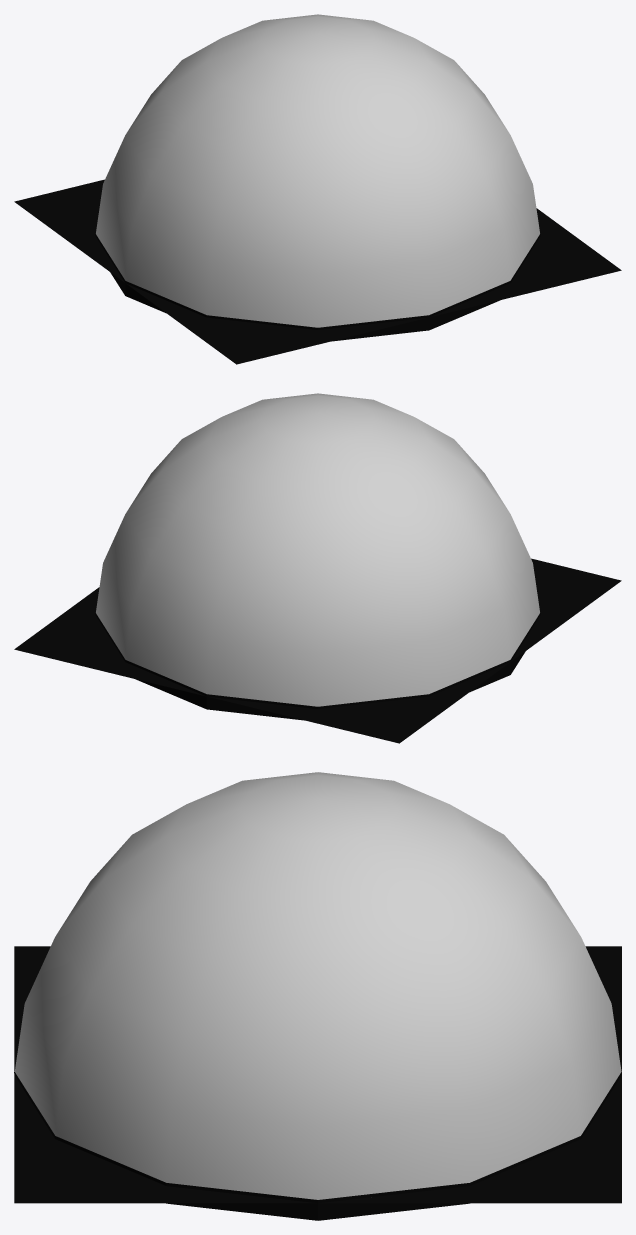
File: glass_dome_unlit_glass.dae
3 views of the same model, one above another, from view 1: azimuth 30°, elevation 25°; view 2: azimuth 150°, elevation 25°; view 3: azimuth 270°, elevation 25° (orthographic). The views are drawn at different scales.
Visible parts, largest first — view 1: polySurface3, polySurface4, polySurface5; view 2: polySurface3, polySurface4, polySurface5; view 3: polySurface3, polySurface4, polySurface5.
Boxes of the visible parts, x1=… form: polySurface3: x1=96, y1=14, x2=539, y2=327; polySurface4: x1=14, y1=179, x2=621, y2=364; polySurface5: x1=95, y1=233, x2=540, y2=341; polySurface3: x1=96, y1=393, x2=539, y2=706; polySurface4: x1=14, y1=558, x2=621, y2=743; polySurface5: x1=95, y1=612, x2=540, y2=720; polySurface3: x1=14, y1=772, x2=621, y2=1199; polySurface4: x1=14, y1=946, x2=621, y2=1203; polySurface5: x1=14, y1=1071, x2=621, y2=1220.
Size of the model in its own units: 800 by 426 by 800.
